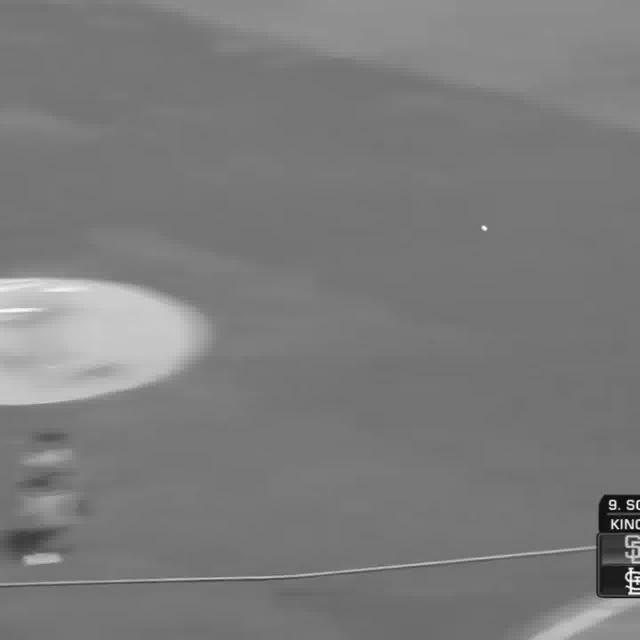baseball: (481, 226, 486, 232)
